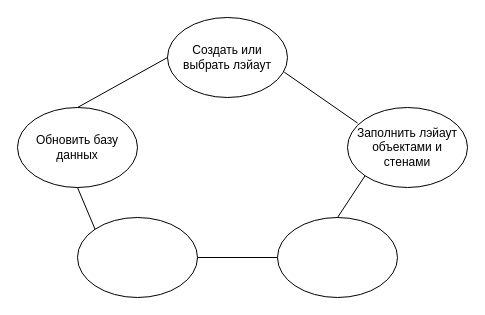
Some shapes in this 485 by 315 pixel diagram are drawn without their labels. The centre of each missing label's shape, as x and y in pixels:
"Оформить заказ" goes at (x=137, y=257).
"Сохранить лэйаут" goes at (x=337, y=257).
